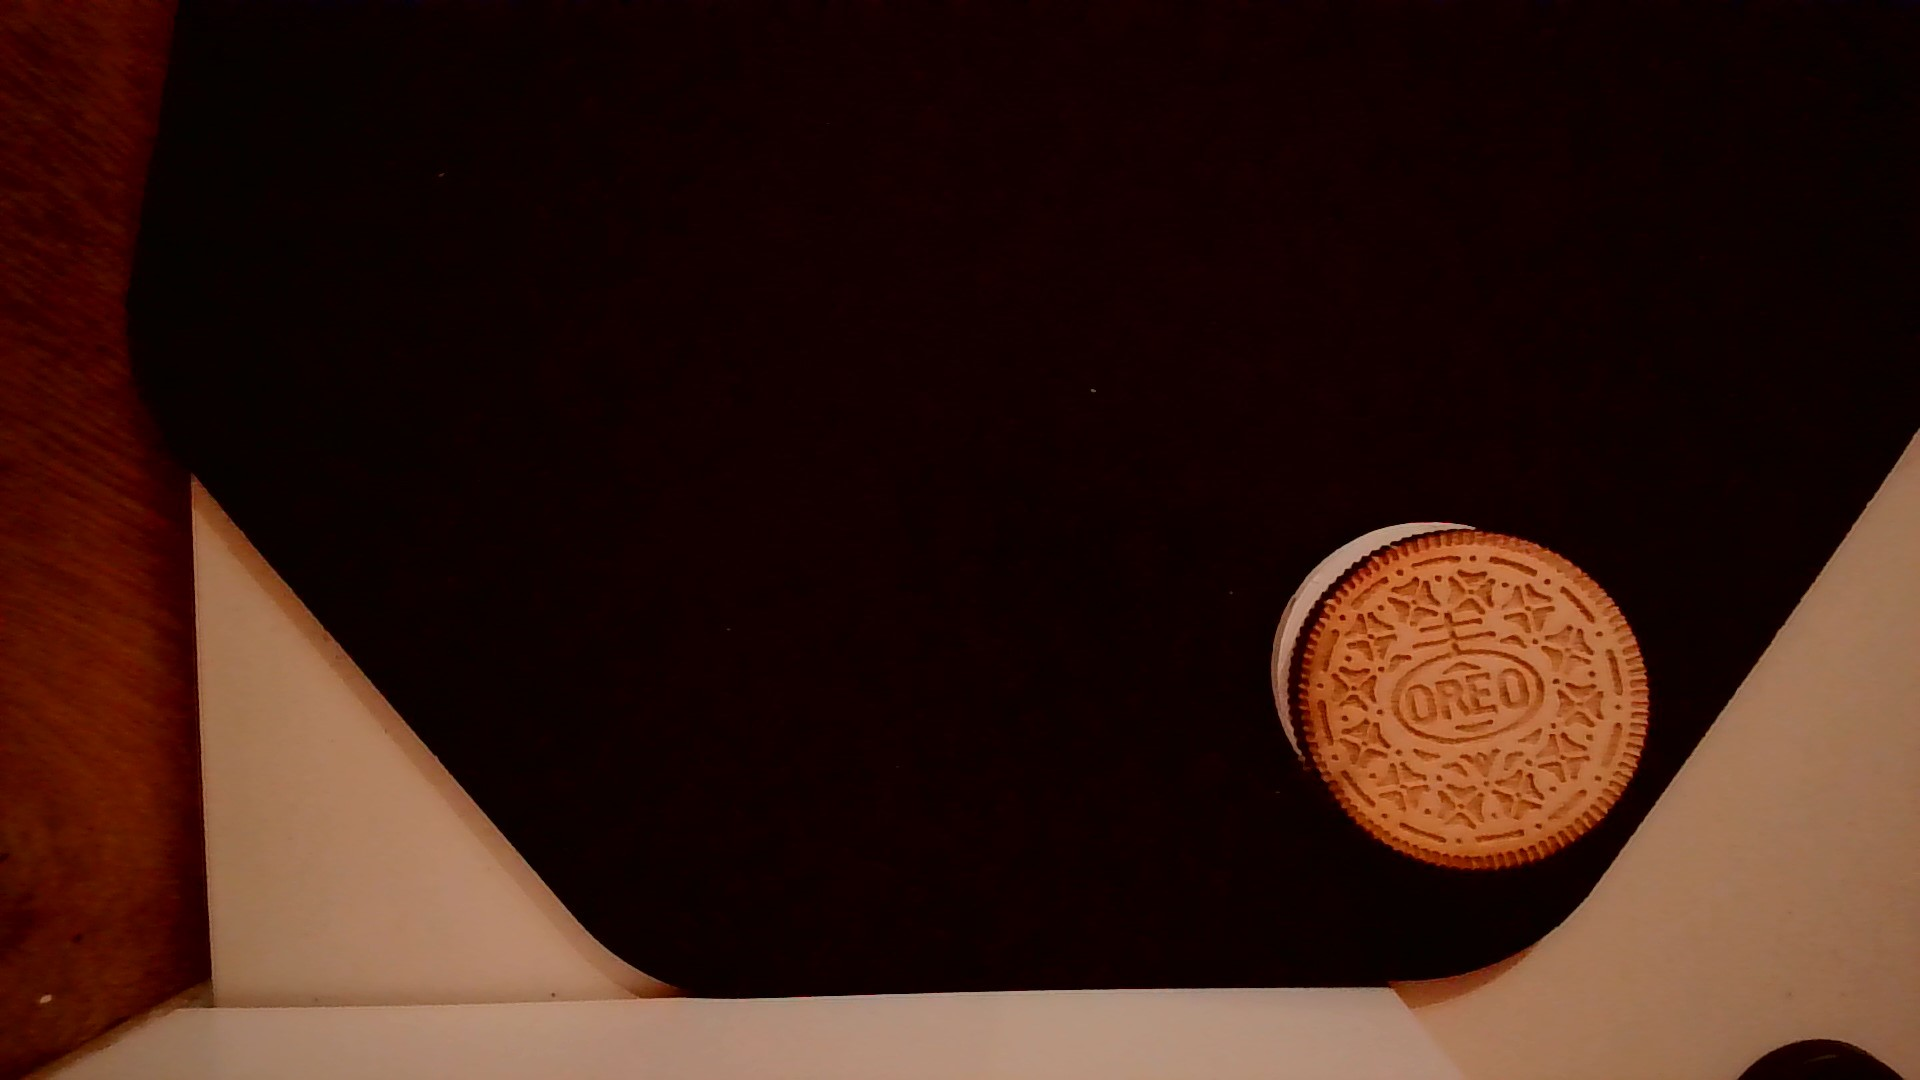Décalé: (1259, 509, 1480, 771)
Oréo: (1284, 520, 1654, 880)
